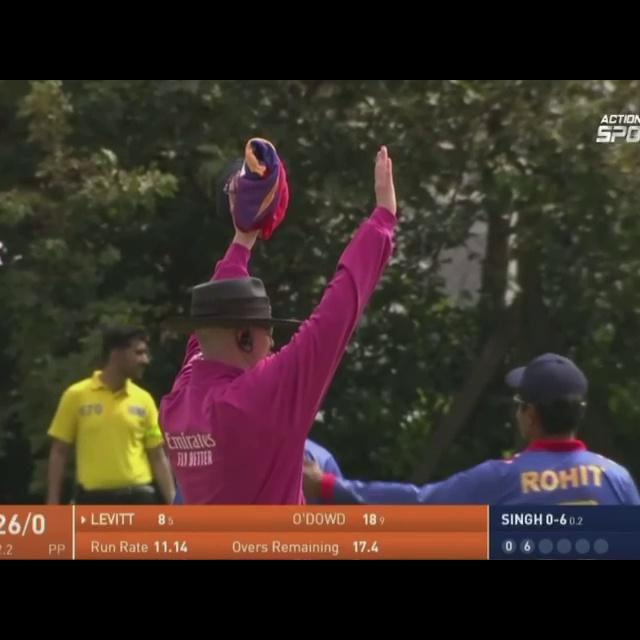umpire: (149, 98, 451, 502)
